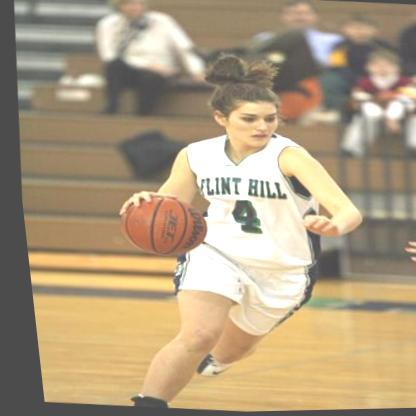basketball: (111, 192, 205, 260)
